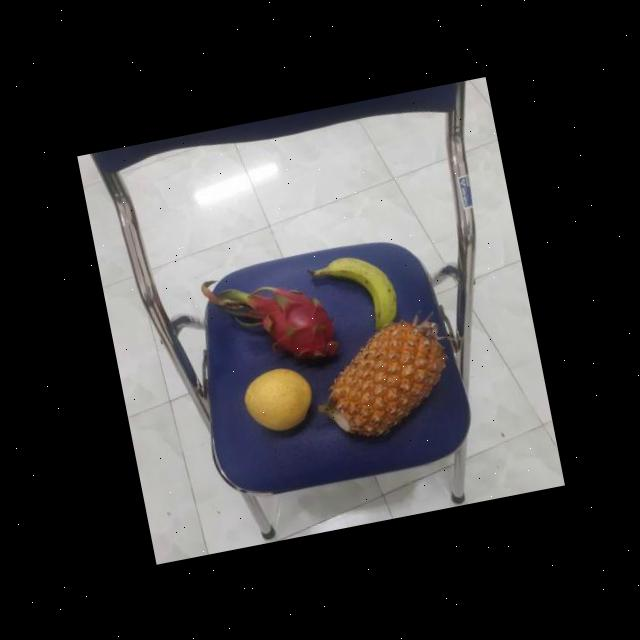banana: (318, 246, 406, 342)
pear: (236, 360, 320, 436)
pineapple: (312, 312, 460, 444)
pitaya: (248, 277, 343, 373)
